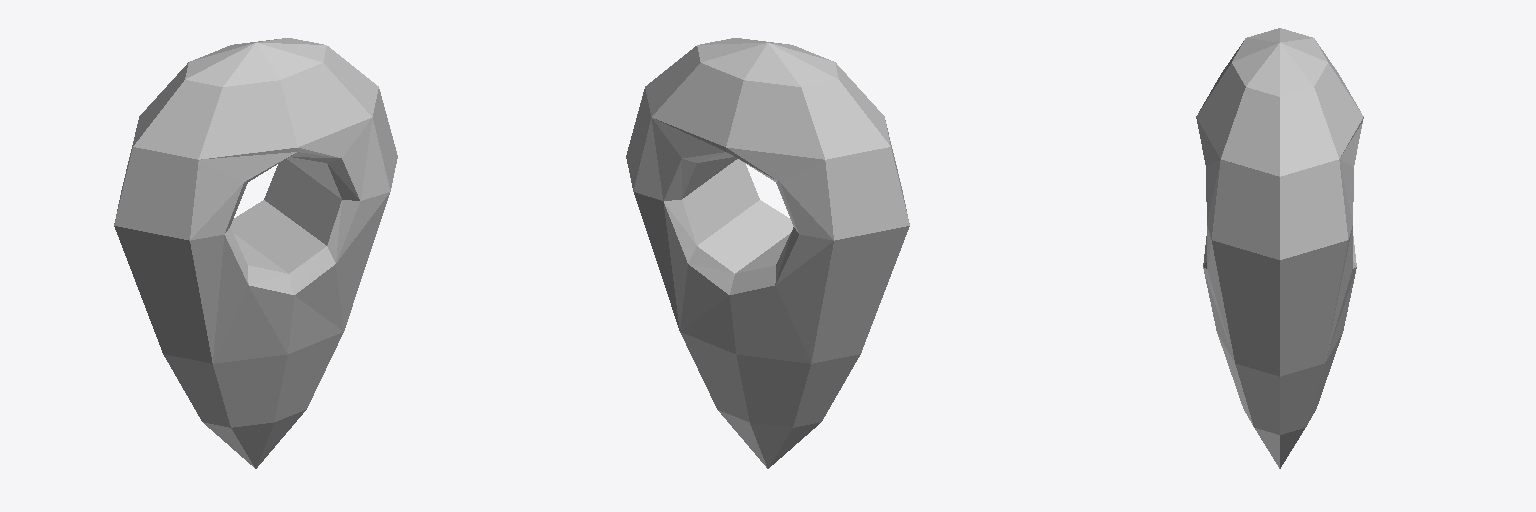
File: pointer.obj
3 views of the same model, side by side, from view 1: azimuth 30°, elevation 25°; view 2: azimuth 150°, elevation 25°; view 3: azimuth 270°, elevation 25° (orthographic).
Parts seen in each view (by area): view 1: body; view 2: body; view 3: body.
Part boxes in pixels (x1,y1,x2,y2): body: (114, 38, 397, 468); body: (626, 38, 909, 468); body: (1196, 28, 1363, 468).
Size of the model in its own units: 0.508 by 0.7298 by 0.2598.